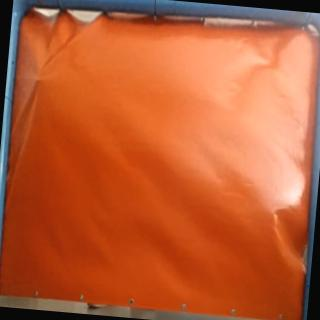Hit-hRxx: (31, 72, 47, 88)
